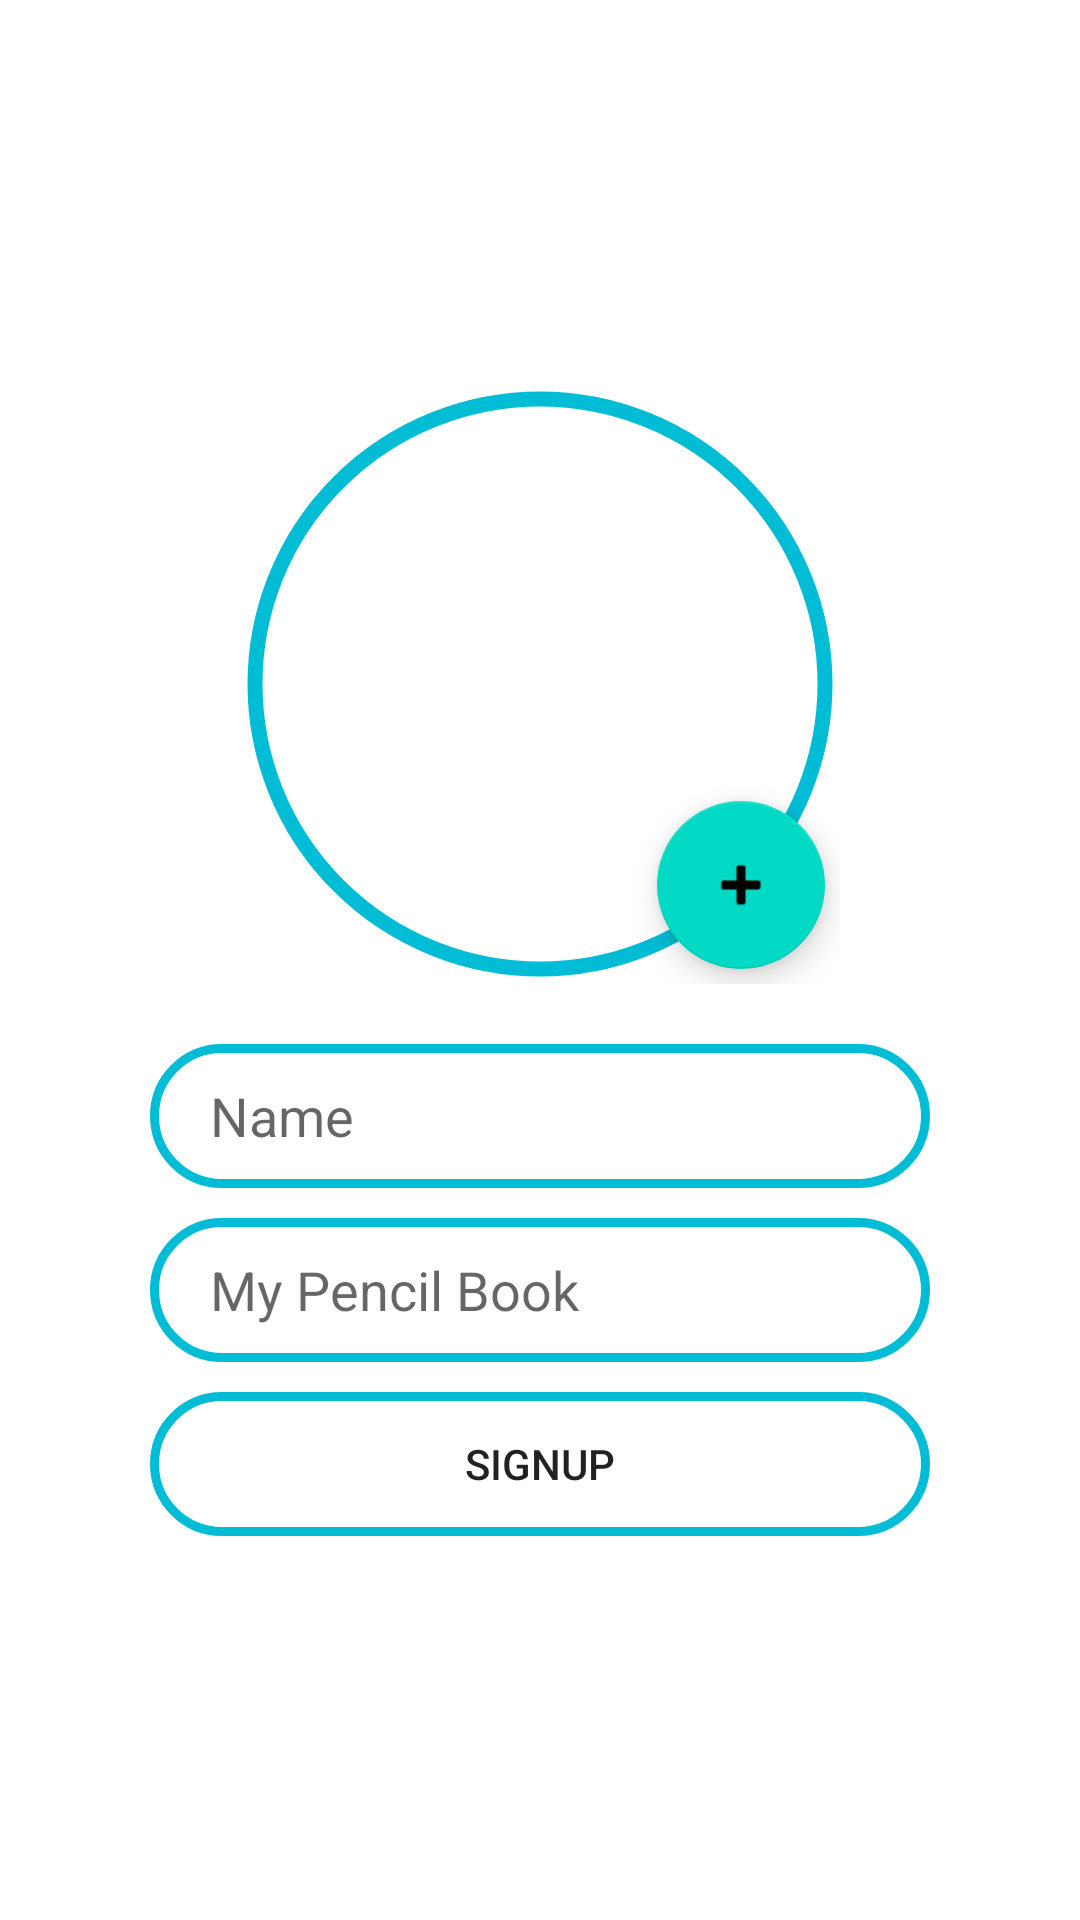

Point at icon controls on the screen. Image size 1080x1920, points as [x,y].
add: [741,885]
